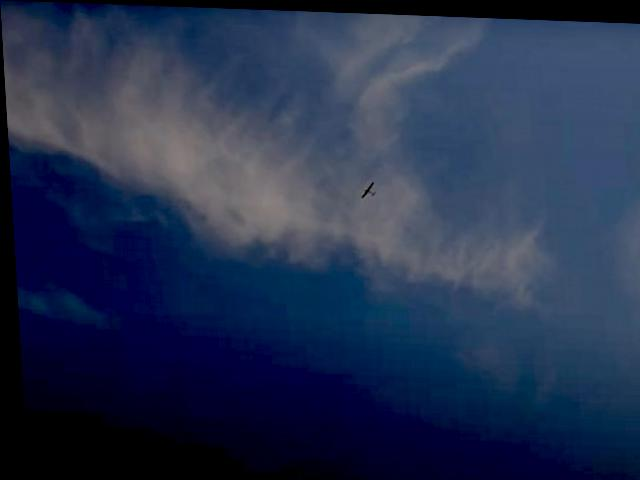iha: (355, 179, 374, 197)
